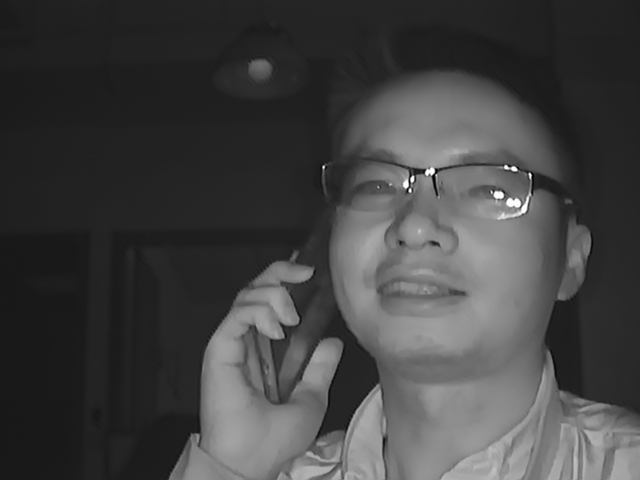hand: (203, 258, 340, 458)
